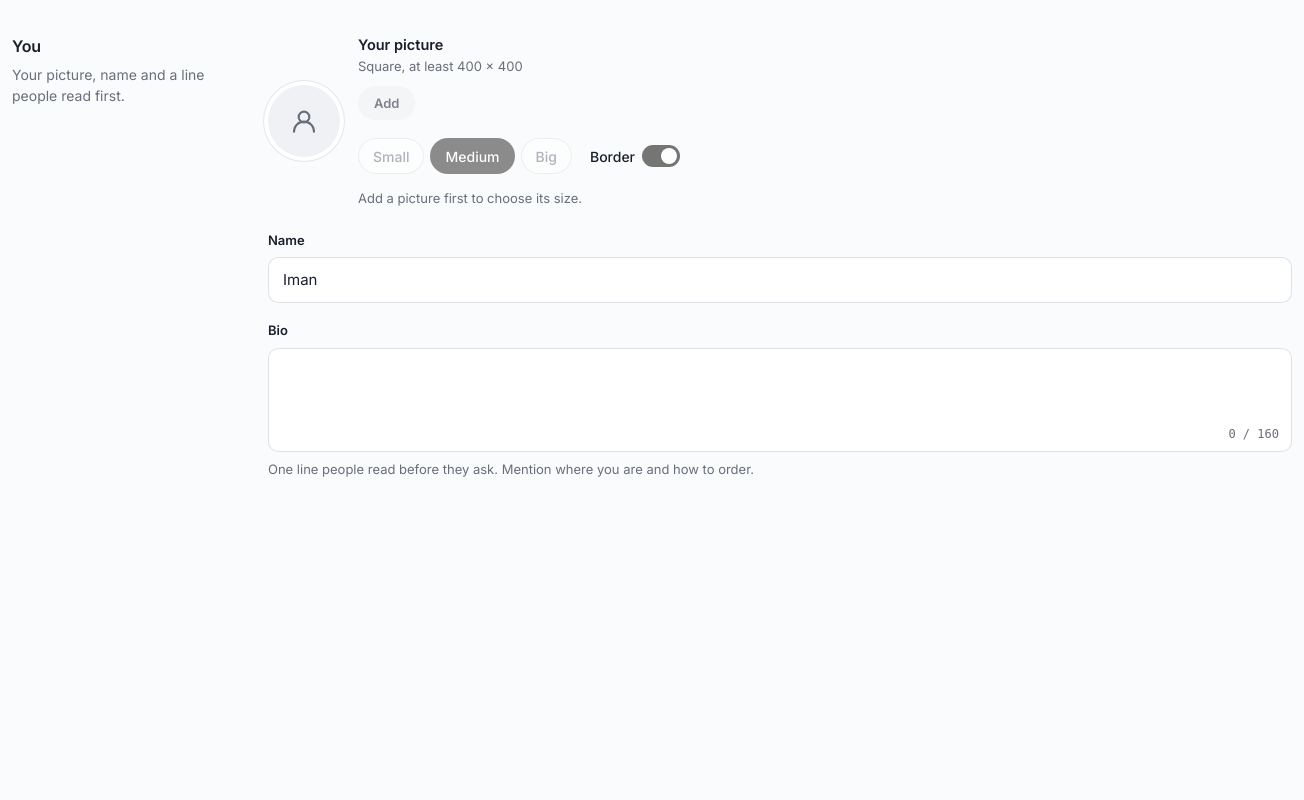
Test: ProfileEditor › keeps the generic message and Retry for a plain Error
The width and height of the screenshot is (1304, 800).
In the field named "Display name": (780, 280) 268,257 -> 1292,303, type "!"
Wait 600 ms
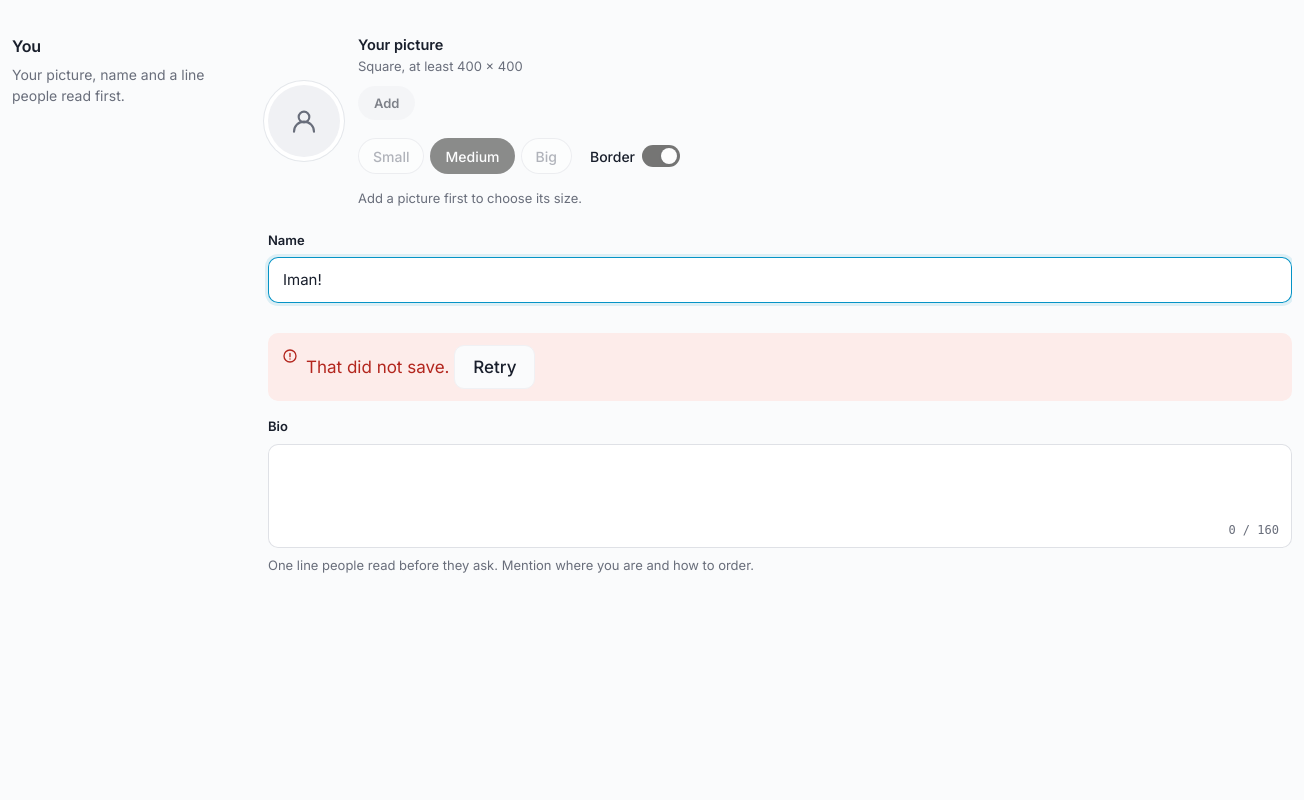
Expected: the message shows "That did not save.", 306,357 -> 450,377
Expected: the button "Retry" is shown, 454,345 -> 536,389
